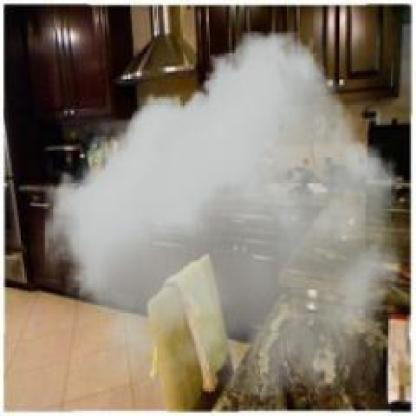Smoke: (44, 31, 403, 395)
